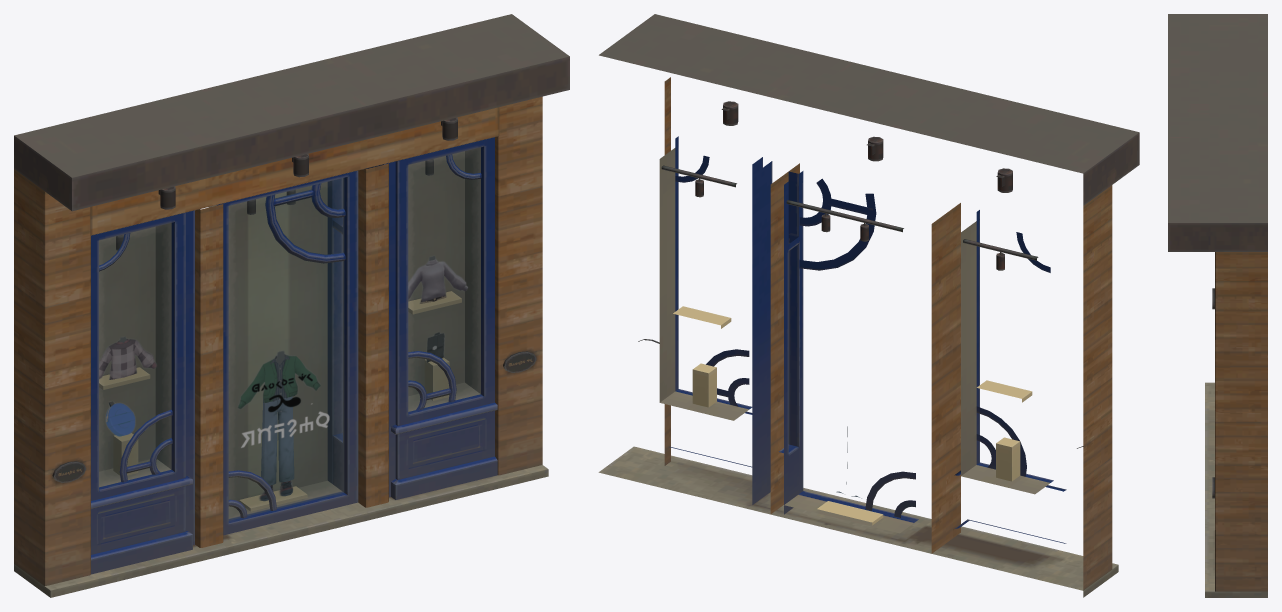
File: t1_b_boutique2_c_wall.glb
3 renders of one model, left to right at view 1: azimuth 30°, elevation 25°; view 2: azimuth 150°, elevation 25°; view 3: azimuth 270°, elevation 25°, orthographic. The views are drawn at different scales.
Parts seen in each view (by area): view 1: nomerge_t1_c_boutique2_c_wall_mesh; view 2: nomerge_t1_c_boutique2_c_wall_mesh; view 3: nomerge_t1_c_boutique2_c_wall_mesh.
Part boxes in pixels (x1,y1,x2,y2): nomerge_t1_c_boutique2_c_wall_mesh: (14,14,569,597); nomerge_t1_c_boutique2_c_wall_mesh: (598,14,1139,597); nomerge_t1_c_boutique2_c_wall_mesh: (1168,14,1267,597).
Size of the model in its own units: 5.5 by 4.6 by 1.11.
Materials: 3 (3 with a texture image).
